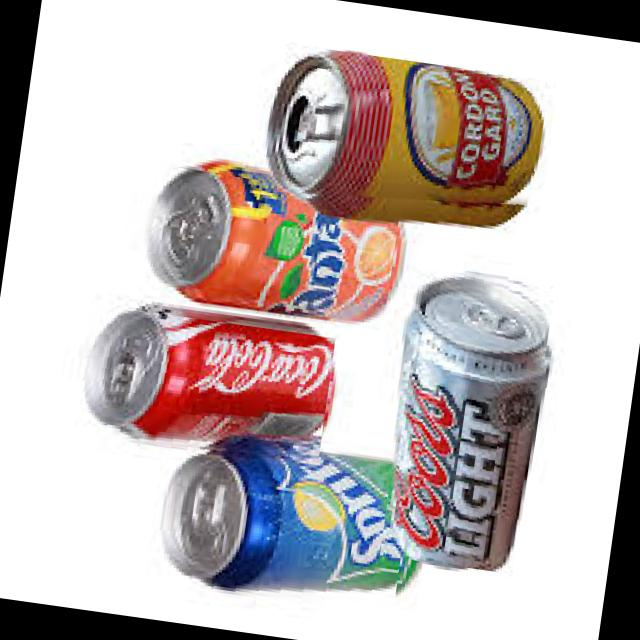Cans: (380, 260, 573, 576), (262, 42, 560, 230), (157, 433, 414, 621), (61, 301, 336, 473), (123, 162, 402, 324)
